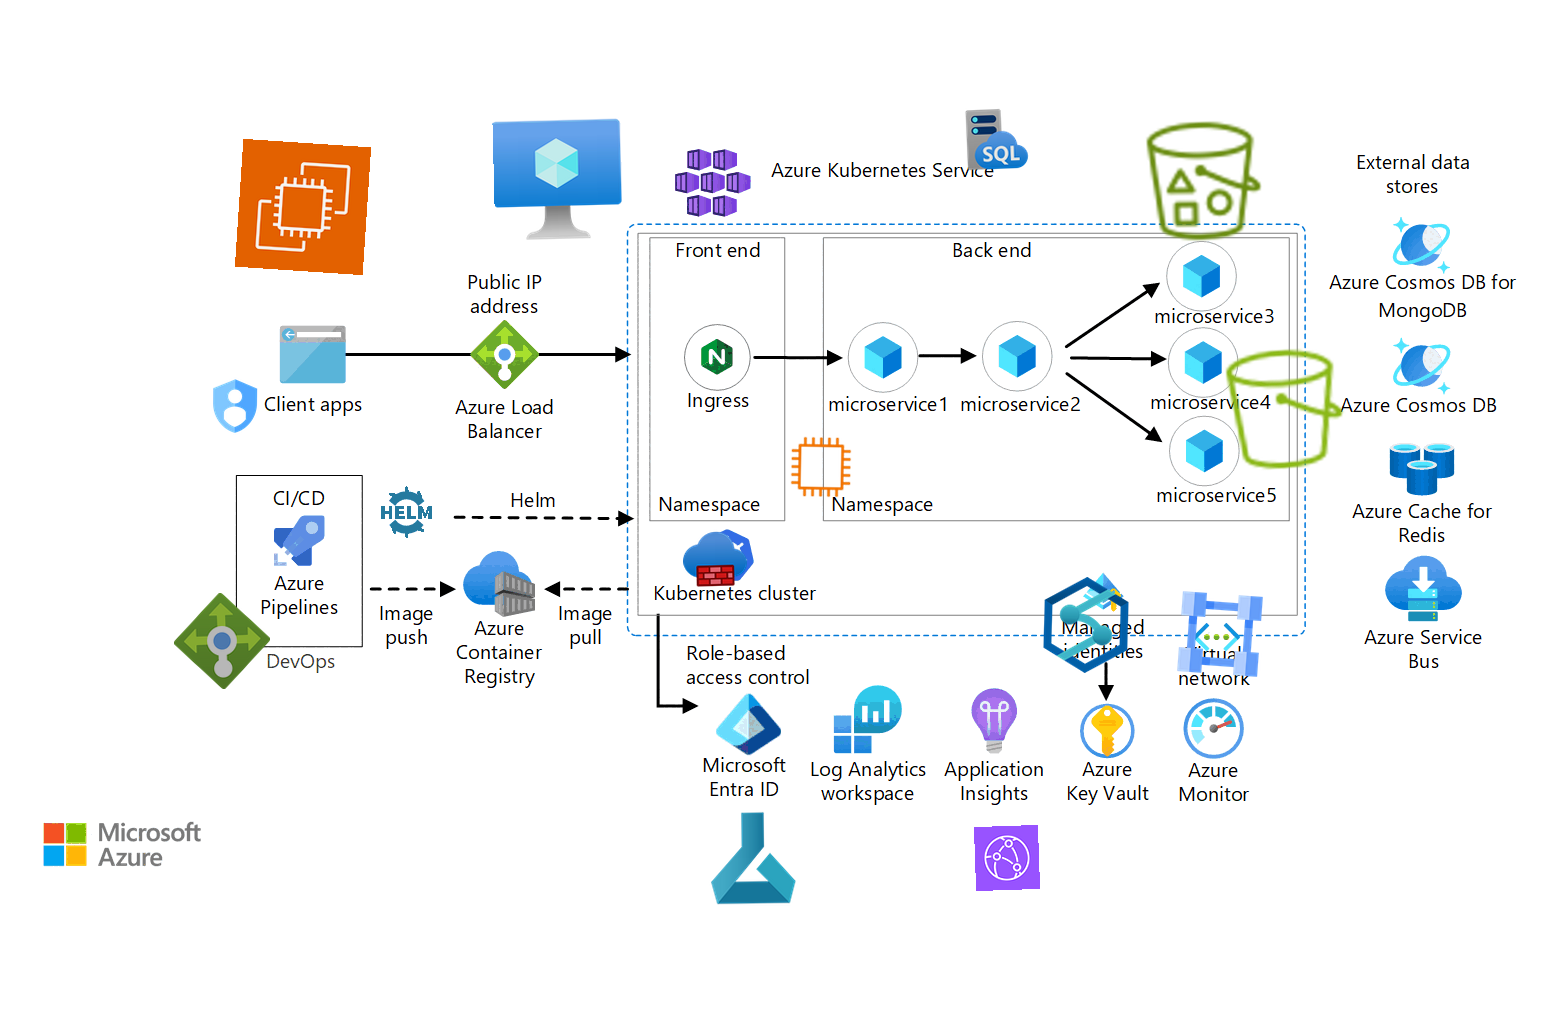aws_amazon_cloudfront: (973, 824, 1041, 892)
aws_amazon_ec2: (234, 138, 372, 276)
aws_ec2_instance: (788, 434, 854, 500)
aws_simple_storage_service_bucket: (1216, 340, 1354, 478)
aws_simple_storage_service_bucket_with_objects: (1138, 115, 1269, 246)
azure_firewalls: (682, 526, 748, 591)
azure_load_balancers: (172, 591, 272, 691)
azure_machine_learning: (703, 809, 802, 907)
azure_sql_managed_instance: (964, 105, 1031, 173)
azure_synapse_analytics: (1036, 575, 1137, 675)
azure_virtual_machine: (492, 117, 624, 249)
gcp_identity_and_access_management: (202, 373, 268, 439)
gcp_virtual_private_cloud: (1167, 582, 1272, 685)
